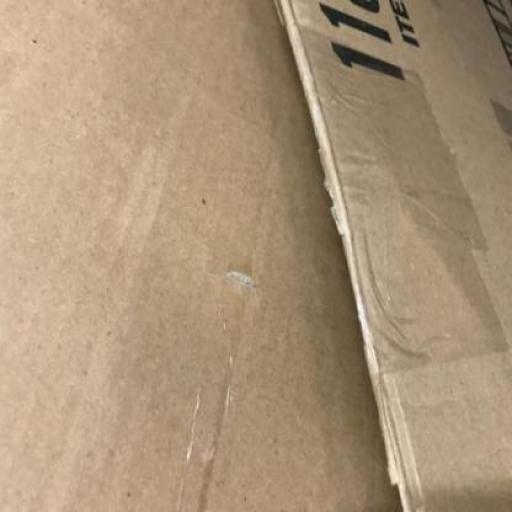cardboard: (0, 0, 511, 511), (272, 0, 512, 511)
